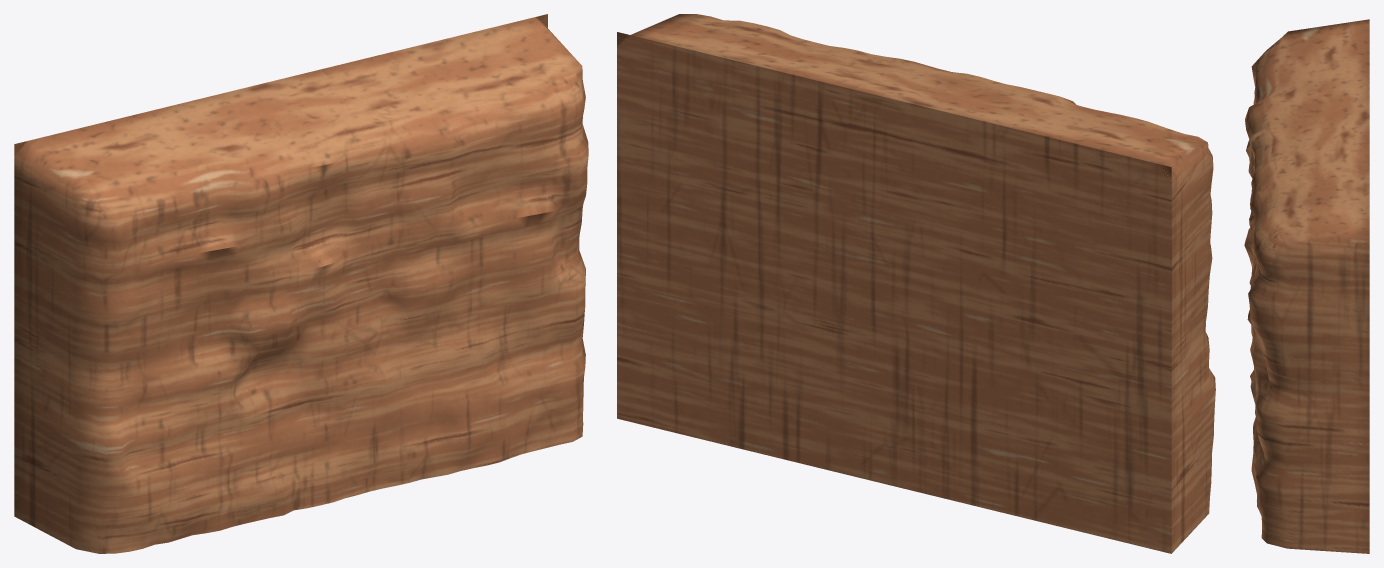
File: cliff-sandstone.fbx
3 renders of one model, left to right at view 1: azimuth 30°, elevation 25°; view 2: azimuth 150°, elevation 25°; view 3: azimuth 270°, elevation 25°, orthographic. The views are drawn at different scales.
Visible parts, largest first — view 1: cliff-sandstone; view 2: cliff-sandstone; view 3: cliff-sandstone.
Boxes of the visible parts, x1,y1,x2,y2 form: cliff-sandstone: (14,14,588,553); cliff-sandstone: (617,14,1215,553); cliff-sandstone: (1244,19,1369,553).
Size of the model in its own units: 240 by 160 by 57.12.
Materials: 1 (1 with a texture image).
